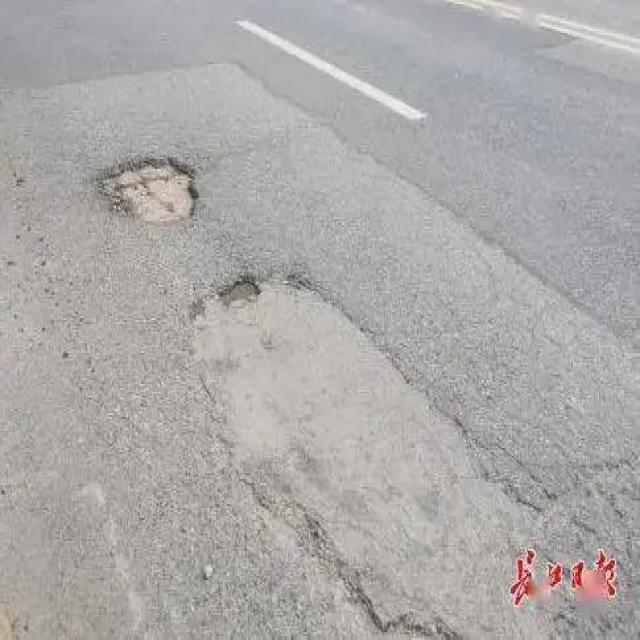Pothole: (100, 155, 197, 225), (215, 276, 261, 304)
